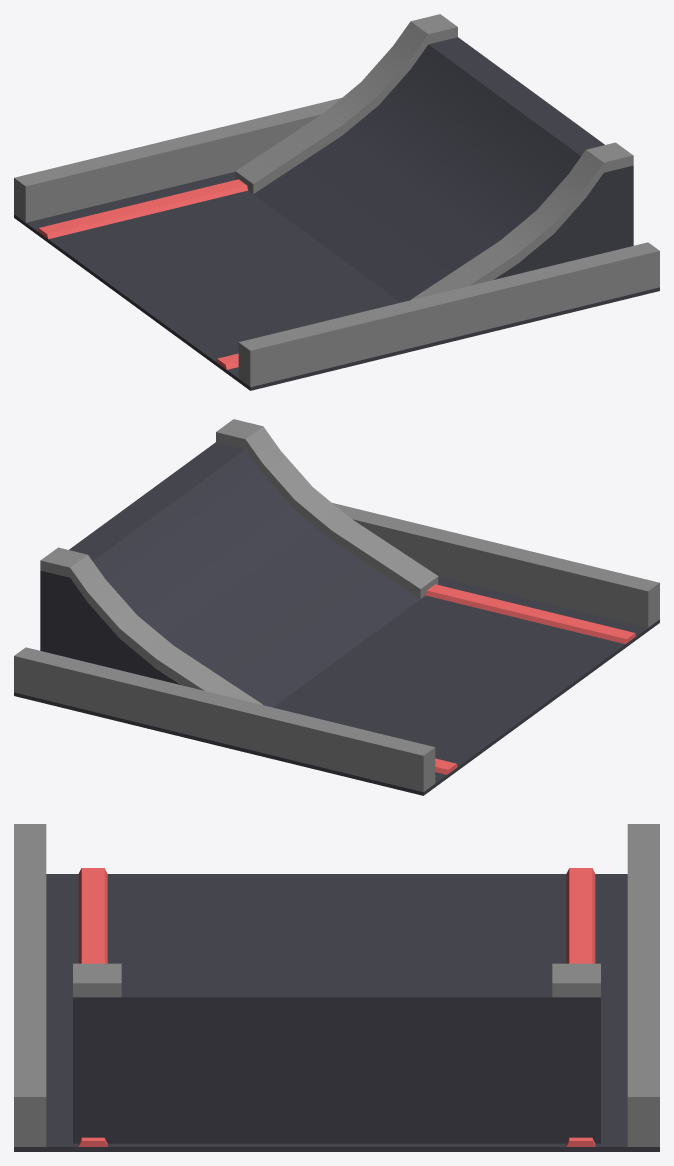
File: kartkids_base_trk_500_jmp_03_long_midstart_to_edge_1x1.glb
3 renders of one model, top to bottom at view 1: azimuth 30°, elevation 25°; view 2: azimuth 150°, elevation 25°; view 3: azimuth 270°, elevation 25°, orthographic. The views are drawn at different scales.
Visible parts, largest first — view 1: 1.002, kartkids_base_trk_010_rd_straight_1x1.024, kartkids_base_trk_020_trn_90_l_1x1.005; view 2: 1.002, kartkids_base_trk_010_rd_straight_1x1.024, kartkids_base_trk_020_trn_90_l_1x1.005; view 3: 1.002, kartkids_base_trk_010_rd_straight_1x1.024, kartkids_base_trk_020_trn_90_l_1x1.005.
Part boxes in pixels (x1,y1,x2,y2): 1.002: (235,14,633,302); kartkids_base_trk_010_rd_straight_1x1.024: (14,171,659,390); kartkids_base_trk_020_trn_90_l_1x1.005: (14,98,659,387); 1.002: (40,419,438,707); kartkids_base_trk_010_rd_straight_1x1.024: (14,576,659,795); kartkids_base_trk_020_trn_90_l_1x1.005: (14,503,659,792); 1.002: (73,963,600,1143); kartkids_base_trk_010_rd_straight_1x1.024: (14,868,659,1151); kartkids_base_trk_020_trn_90_l_1x1.005: (14,824,659,1146).
Size of the model in its own units: 10 by 2.82 by 10.
